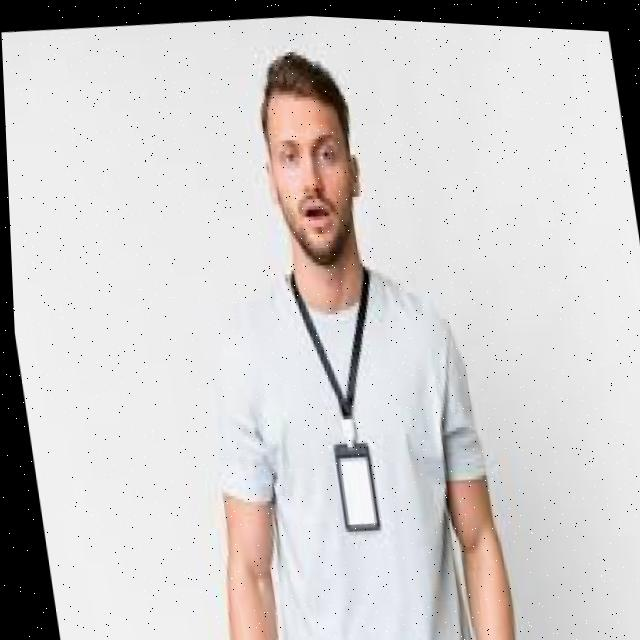id_card: (283, 270, 397, 538)
